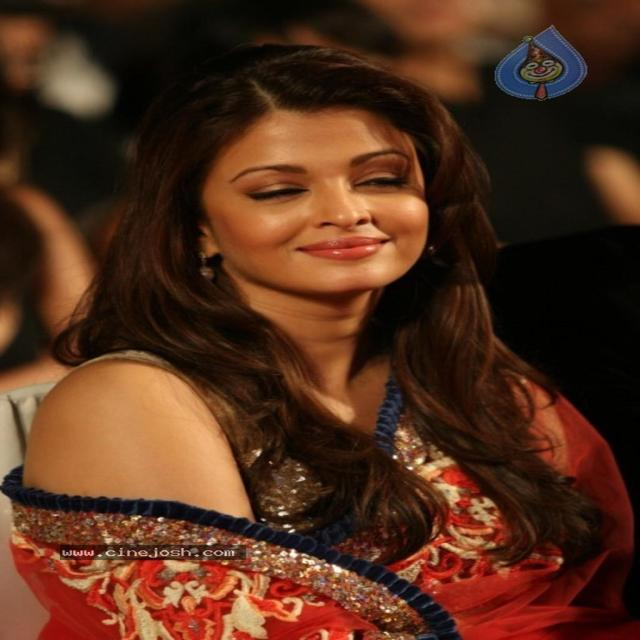Face: (176, 100, 454, 292)
